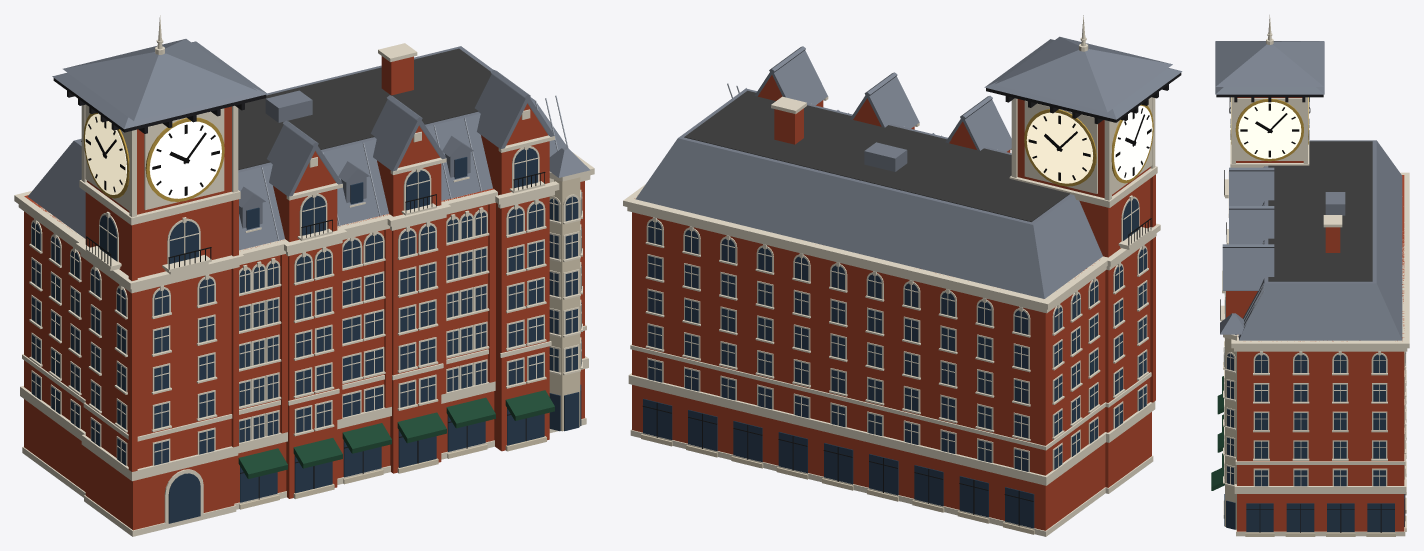
The model's file is clock_tower_building.glb.
3 views of the same model, side by side, from view 1: azimuth 30°, elevation 25°; view 2: azimuth 150°, elevation 25°; view 3: azimuth 270°, elevation 25° (orthographic). The views are drawn at different scales.
Parts seen in each view (by area): view 1: ClockTowerBuilding; view 2: ClockTowerBuilding; view 3: ClockTowerBuilding.
Boxes of the visible parts, x1,y1,x2,y2 form: ClockTowerBuilding: (14,15,594,536); ClockTowerBuilding: (623,15,1182,536); ClockTowerBuilding: (1211,15,1409,536).
Bounding box in the file's own units: 42.75 × 41.8 × 20.15.
